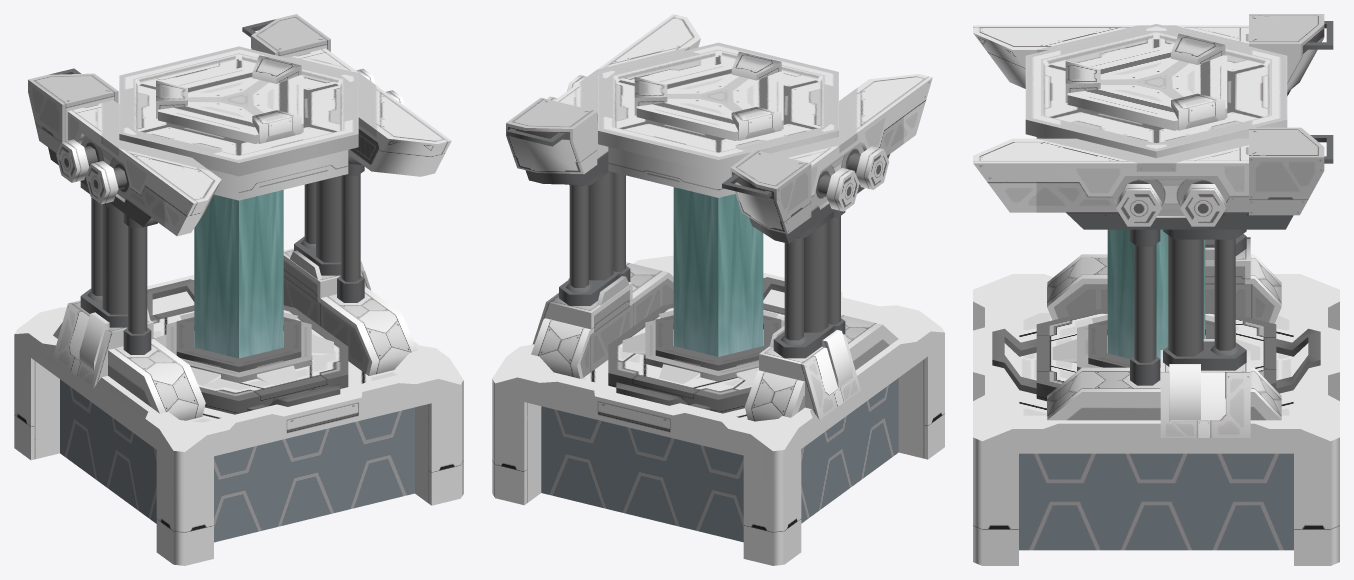
Rendered from assembler-4.glb.
The picture shows the model from 3 angles, left to right: view 1: azimuth 30°, elevation 25°; view 2: azimuth 150°, elevation 25°; view 3: azimuth 270°, elevation 25°; orthographic projection. The views are drawn at different scales.
Parts seen in each view (by area): view 1: assembler-mk-4, assembler-mk-c, assembler-mk-4-eff, assembler-mk-b, assembler-mk-e1, assembler-mk-e; view 2: assembler-mk-4, assembler-mk-c, assembler-mk-4-eff, assembler-mk-b, assembler-mk-e1, assembler-mk-e; view 3: assembler-mk-4, assembler-mk-c, assembler-mk-b, assembler-mk-4-eff, assembler-mk-e, assembler-mk-e1.
Part boxes in pixels (box(x1,y1,x2,y2)): assembler-mk-4: box(14, 236, 463, 565); assembler-mk-c: box(28, 14, 451, 236); assembler-mk-4-eff: box(194, 190, 283, 358); assembler-mk-b: box(91, 174, 360, 333); assembler-mk-e1: box(85, 90, 405, 204); assembler-mk-e: box(56, 68, 375, 182); assembler-mk-4: box(492, 255, 944, 565); assembler-mk-c: box(506, 14, 932, 243); assembler-mk-4-eff: box(673, 187, 763, 356); assembler-mk-b: box(569, 171, 840, 340); assembler-mk-e1: box(567, 75, 888, 189); assembler-mk-e: box(547, 96, 859, 211); assembler-mk-4: box(973, 234, 1339, 565); assembler-mk-c: box(973, 14, 1333, 246); assembler-mk-b: box(1134, 235, 1235, 362); assembler-mk-4-eff: box(1107, 229, 1205, 363); assembler-mk-e: box(1180, 184, 1226, 226); assembler-mk-e1: box(1116, 184, 1161, 226).
Size of what is drawn, in the model's own units: 4.16 by 5.01 by 4.
Materials: 2 (2 with a texture image).
